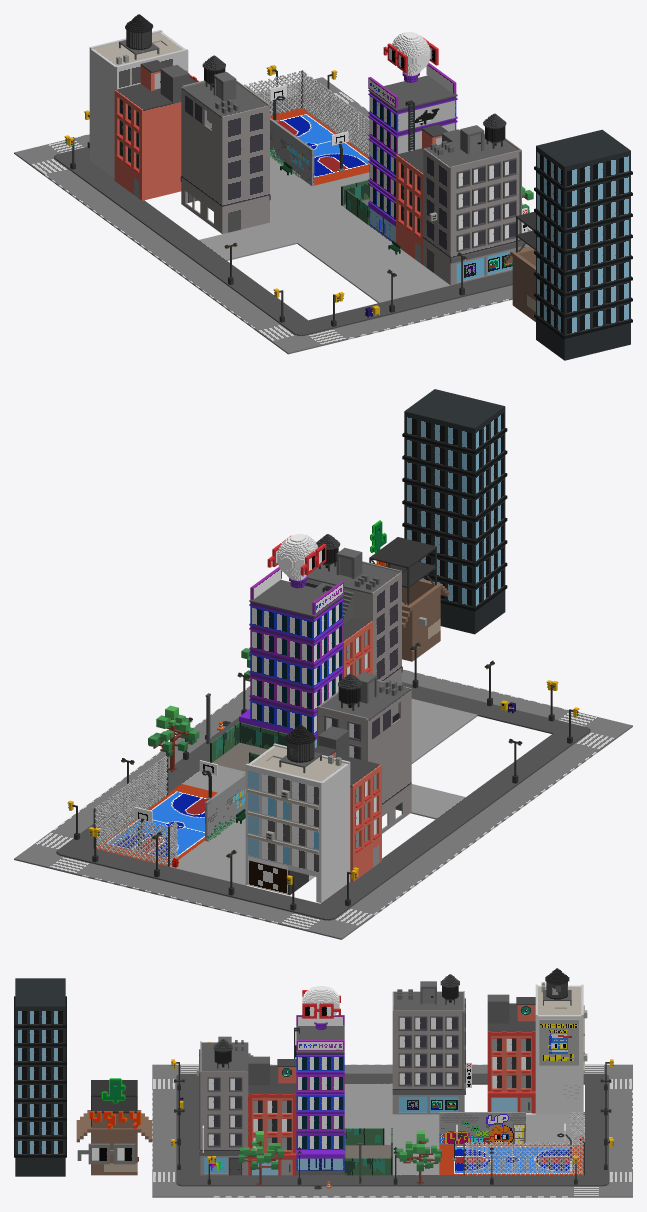
The model's file is Block_PH.glb.
The picture shows the model from 3 angles, top to bottom: view 1: azimuth 30°, elevation 25°; view 2: azimuth 150°, elevation 25°; view 3: azimuth 270°, elevation 25°; orthographic projection. The views are drawn at different scales.
Visible parts, largest first — view 1: Block_PH; view 2: Block_PH; view 3: Block_PH.
Boxes of the visible parts, box(x1,y1,x2,y2) form: Block_PH: box(14, 14, 632, 360); Block_PH: box(14, 389, 632, 939); Block_PH: box(14, 968, 632, 1197).
Size of the model in its own units: 2.6 by 1.58 by 5.15.
Materials: 1 (1 with a texture image).
